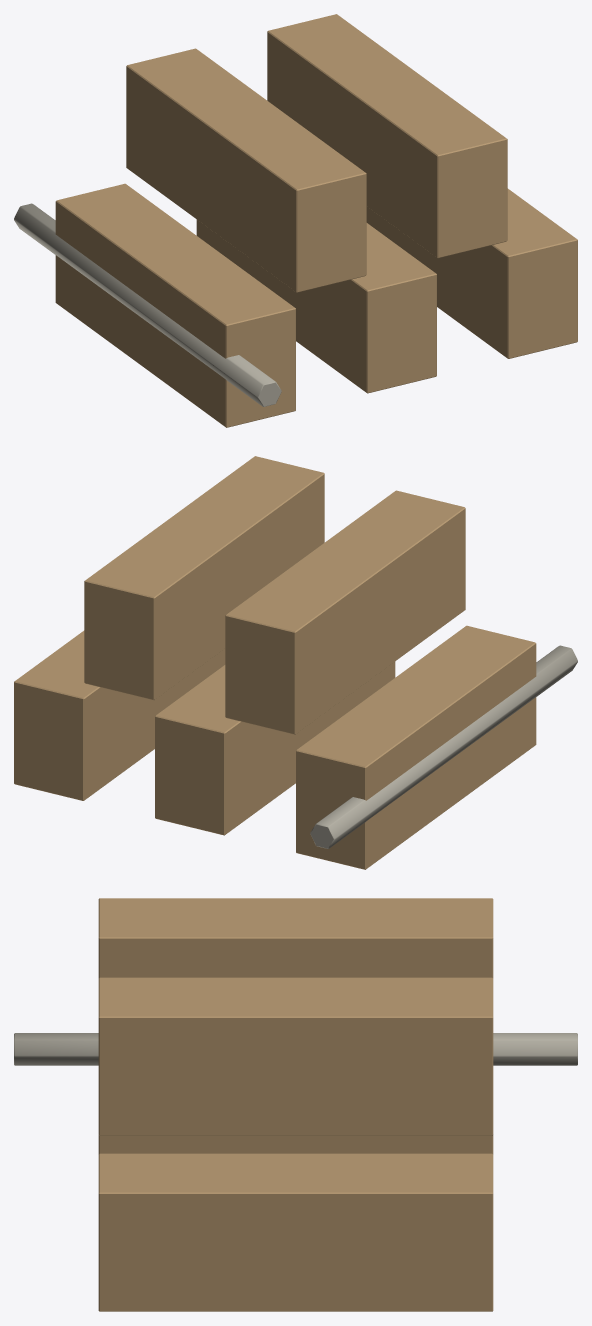
The model's file is IT_wood_pile.fbx.
The picture shows the model from 3 angles, top to bottom: view 1: azimuth 30°, elevation 25°; view 2: azimuth 150°, elevation 25°; view 3: azimuth 270°, elevation 25°; orthographic projection. The views are drawn at different scales.
Visible parts, largest first — view 1: IT_wood_pile; view 2: IT_wood_pile; view 3: IT_wood_pile.
Boxes of the visible parts, x1,y1,x2,y2 form: IT_wood_pile: (14,14,577,427); IT_wood_pile: (14,456,577,869); IT_wood_pile: (14,898,577,1311).
Size of the model in its own units: 0.5074 by 0.3 by 0.6.
